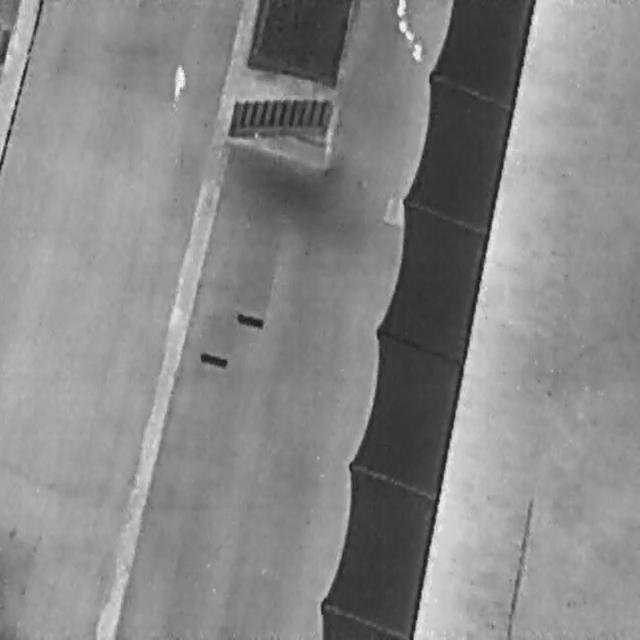Person: (172, 62, 187, 100)
